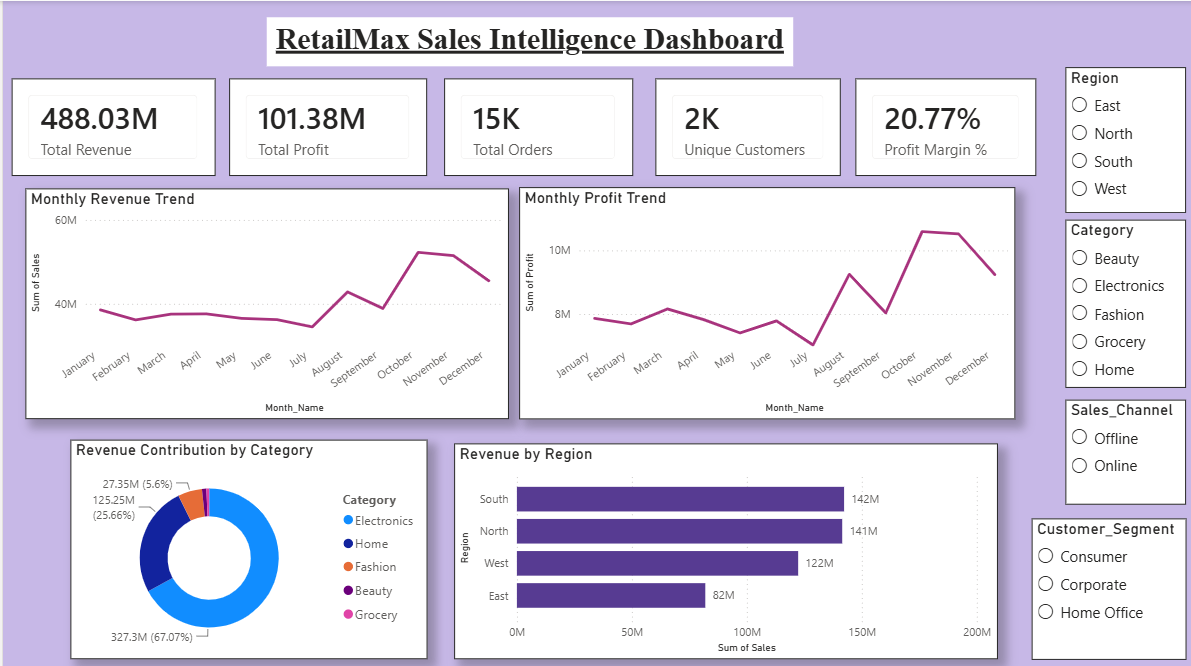

Layout of this report page (visuals, bound fields, positions):
{"tool":"powerbi","page":{"name":"RetailMax Sales Intelligence Dashboard","canvas":[1280,720],"ordinal":0},"visuals":[{"type":"textbox","box":[283.8,17.5,566.2,52.4],"z":0},{"type":"cardVisual","fields":{"Data":["retail_sales_15000.Total Revenue"]},"box":[9.8,83.2,218.9,105.2],"z":1000},{"type":"cardVisual","fields":{"Data":["retail_sales_15000.Total Profit"]},"box":[243.3,83.2,212.8,105.2],"z":2000},{"type":"cardVisual","fields":{"Data":["retail_sales_15000.Total Orders"]},"box":[474.5,83.2,203,105.2],"z":3000},{"type":"cardVisual","fields":{"Data":["retail_sales_15000.Unique Customers"]},"box":[701.9,83.2,199.3,105.2],"z":4000},{"type":"cardVisual","fields":{"Data":["retail_sales_15000.Profit Margin %"]},"box":[917.1,83.2,194.4,105.2],"z":5000},{"type":"lineChart","title":"Monthly Revenue Trend","fields":{"Y":["Sum(retail_sales_15000.Sales)"],"Category":["retail_sales_15000.Month_Name"]},"box":[24.7,201.7,520.1,248.4],"z":6000},{"type":"lineChart","title":"Monthly Profit Trend","fields":{"Category":["retail_sales_15000.Month_Name"],"Y":["Sum(retail_sales_15000.Profit)"]},"box":[555.7,200.3,533.8,249.7],"z":7000},{"type":"donutChart","title":"Revenue Contribution by Category","fields":{"Category":["retail_sales_15000.Category"],"Y":["Sum(retail_sales_15000.Sales)"]},"box":[72.7,472,384.2,236],"z":8000},{"type":"clusteredBarChart","title":"Revenue by Region","fields":{"Category":["retail_sales_15000.Region"],"Y":["Sum(retail_sales_15000.Sales)"]},"box":[485.8,476.2,584.6,231.9],"z":9000},{"type":"listSlicer","fields":{"Values":["retail_sales_15000.Region"]},"box":[1143.3,70.9,129.6,156.5],"z":10000},{"type":"listSlicer","fields":{"Values":["retail_sales_15000.Category"]},"box":[1143.3,236,129.6,181],"z":11000},{"type":"listSlicer","fields":{"Values":["retail_sales_15000.Sales_Channel"]},"box":[1143.3,429.2,129.6,112.5],"z":12000},{"type":"listSlicer","fields":{"Values":["retail_sales_15000.Customer_Segment"]},"box":[1106.7,556.4,166.3,151.6],"z":13000}]}

Visuals, with their boxes in screenshot pixels (x1, y1, x2, y2), scaled from the page's 1280x720 canvas onto the 1191x666 screenshot:
textbox: [x1=264, y1=16, x2=791, y2=65]
cardVisual - retail_sales_15000.Total Revenue: [x1=9, y1=77, x2=213, y2=174]
cardVisual - retail_sales_15000.Total Profit: [x1=226, y1=77, x2=424, y2=174]
cardVisual - retail_sales_15000.Total Orders: [x1=442, y1=77, x2=630, y2=174]
cardVisual - retail_sales_15000.Unique Customers: [x1=653, y1=77, x2=839, y2=174]
cardVisual - retail_sales_15000.Profit Margin %: [x1=853, y1=77, x2=1034, y2=174]
"Monthly Revenue Trend" lineChart: [x1=23, y1=187, x2=507, y2=416]
"Monthly Profit Trend" lineChart: [x1=517, y1=185, x2=1014, y2=416]
"Revenue Contribution by Category" donutChart: [x1=68, y1=437, x2=425, y2=655]
"Revenue by Region" clusteredBarChart: [x1=452, y1=440, x2=996, y2=655]
listSlicer - retail_sales_15000.Region: [x1=1064, y1=66, x2=1184, y2=210]
listSlicer - retail_sales_15000.Category: [x1=1064, y1=218, x2=1184, y2=386]
listSlicer - retail_sales_15000.Sales_Channel: [x1=1064, y1=397, x2=1184, y2=501]
listSlicer - retail_sales_15000.Customer_Segment: [x1=1030, y1=515, x2=1184, y2=655]
